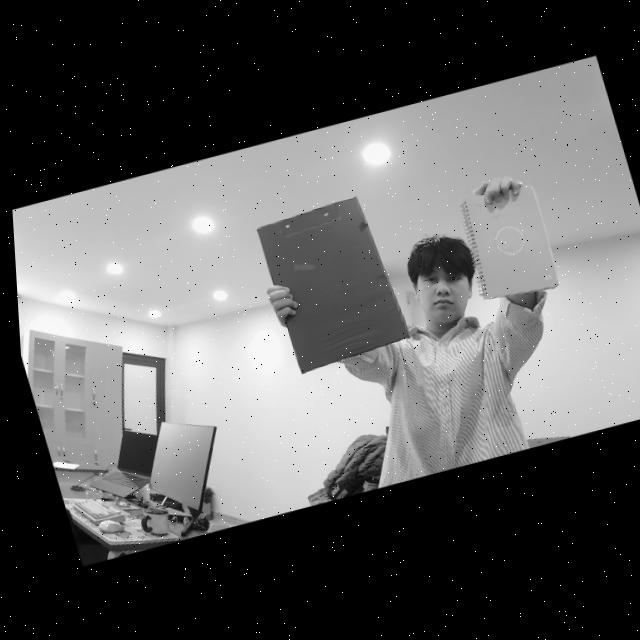document: (459, 184, 559, 300)
face: (404, 230, 479, 325)
